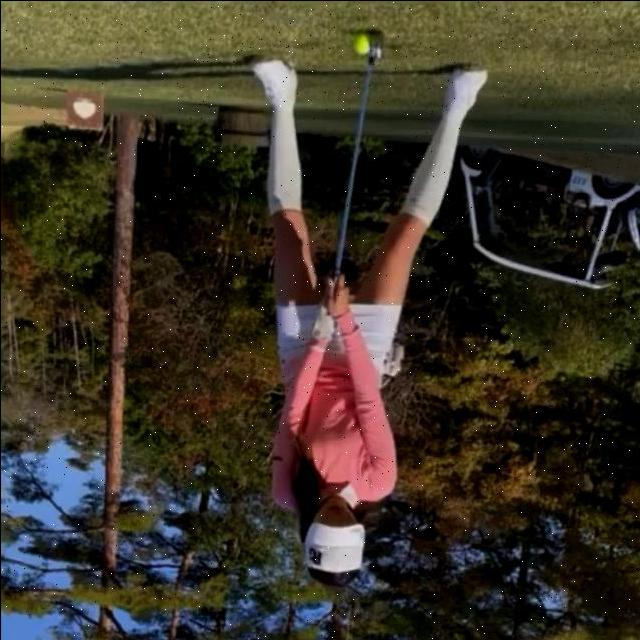ClubHandle: (333, 31, 381, 280)
ClubHead: (368, 31, 380, 58)
GolfBall: (351, 32, 369, 52)
